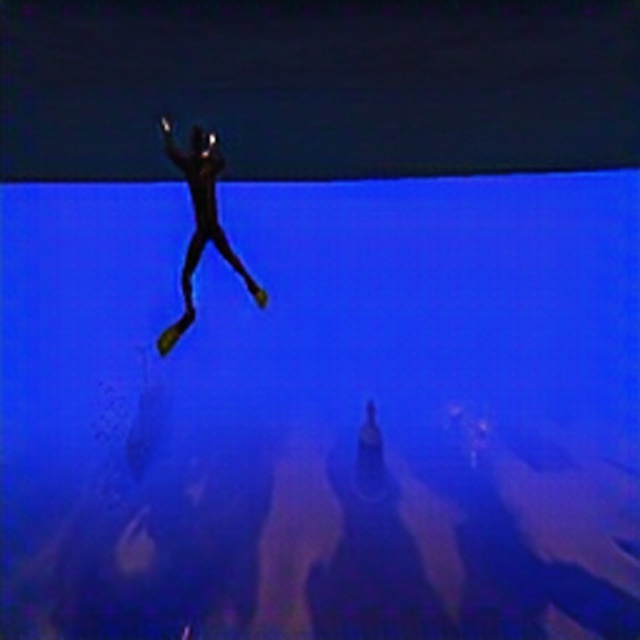diver: (160, 115, 268, 327)
